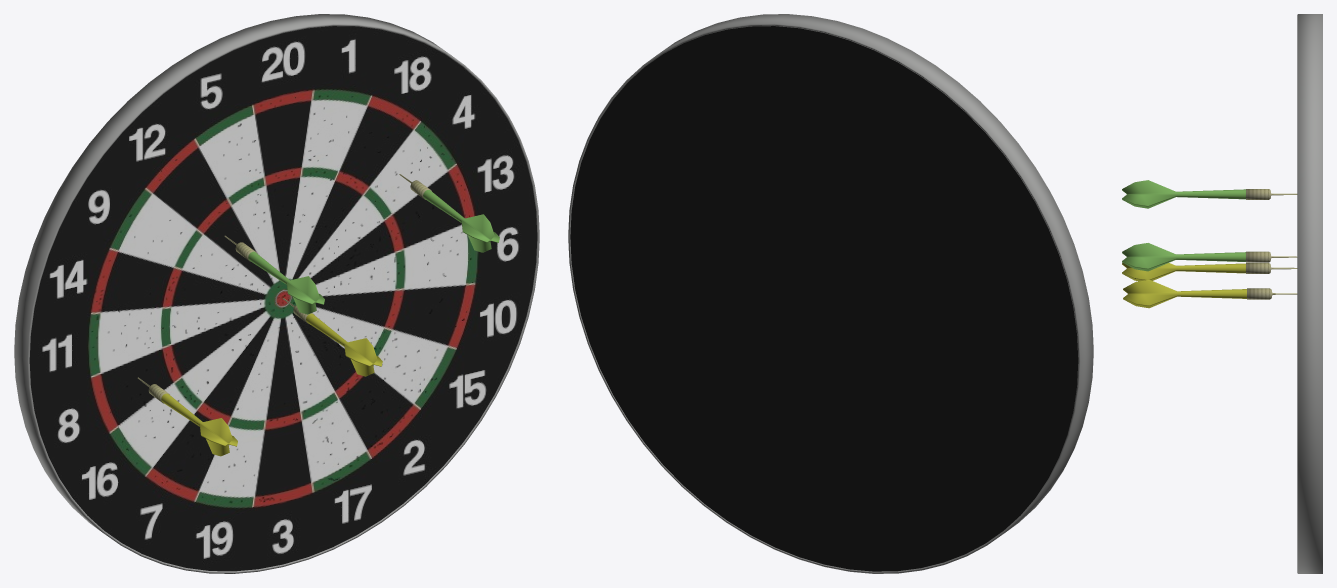
The model's file is dart_game.glb.
The picture shows the model from 3 angles, left to right: view 1: azimuth 30°, elevation 25°; view 2: azimuth 150°, elevation 25°; view 3: azimuth 270°, elevation 25°; orthographic projection. The views are drawn at different scales.
Visible parts, largest first — view 1: Cylinder, Circle.001_Circle.003, Cylinder.004, Cylinder.003, Cylinder.002, Cylinder.001; view 2: Cylinder, Circle.001_Circle.003; view 3: Circle.001_Circle.003, Cylinder.001, Cylinder.002, Cylinder.004, Cylinder.003.
Boxes of the visible parts, x1,y1,x2,y2 form: Cylinder: (29,26,537,571); Circle.001_Circle.003: (14,14,539,573); Cylinder.004: (224,235,324,314); Cylinder.003: (137,377,237,456); Cylinder.002: (399,174,499,252); Cylinder.001: (283,298,382,376); Cylinder: (570,26,1078,571); Circle.001_Circle.003: (568,14,1093,573); Circle.001_Circle.003: (1297,14,1322,573); Cylinder.001: (1123,279,1297,308); Cylinder.002: (1122,243,1297,271); Cylinder.004: (1122,180,1297,208); Cylinder.003: (1122,263,1297,281).
Bounding box in the file's own units: 4.54 × 4.54 × 1.63.
5 materials, 2 textured.
